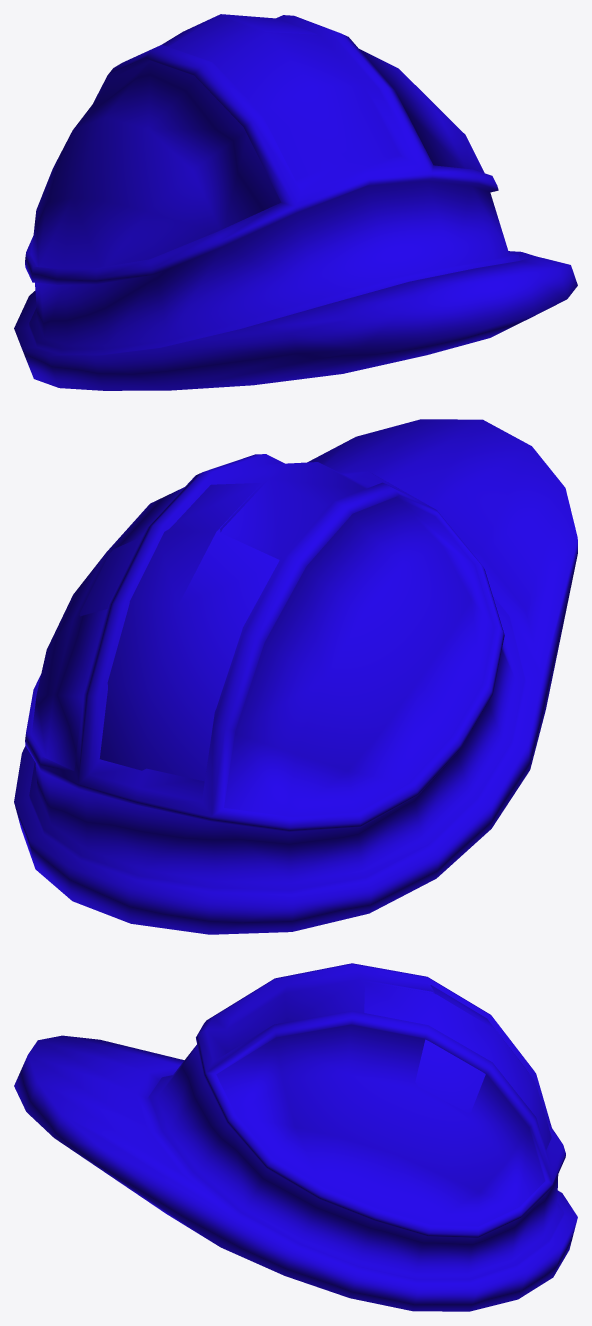
The model's file is Constructor.fbx.
3 renders of one model, top to bottom at view 1: azimuth 30°, elevation 25°; view 2: azimuth 150°, elevation 25°; view 3: azimuth 270°, elevation 25°, orthographic. The views are drawn at different scales.
Visible parts, largest first — view 1: Construction helmet; view 2: Construction helmet; view 3: Construction helmet.
Boxes of the visible parts, x1=… form: Construction helmet: x1=14, y1=14, x2=577, y2=390; Construction helmet: x1=14, y1=419, x2=577, y2=934; Construction helmet: x1=14, y1=963, x2=577, y2=1311.
Size of the model in its own units: 63.94 by 47.95 by 90.49.
